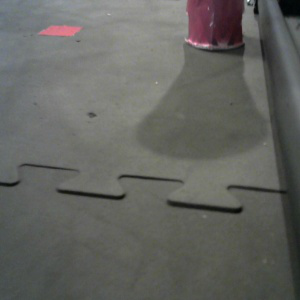Right: (184, 1, 245, 49)
